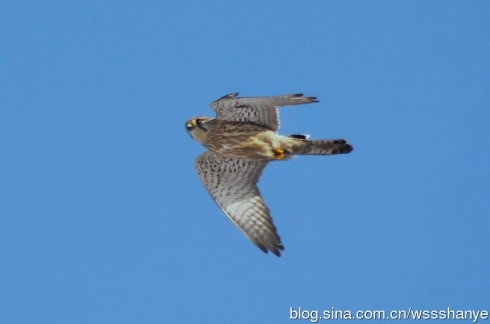bird: (174, 82, 355, 259)
